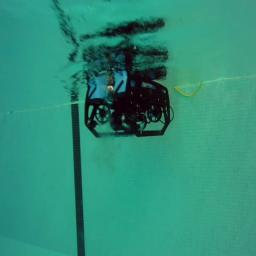front: (83, 77, 170, 137)
